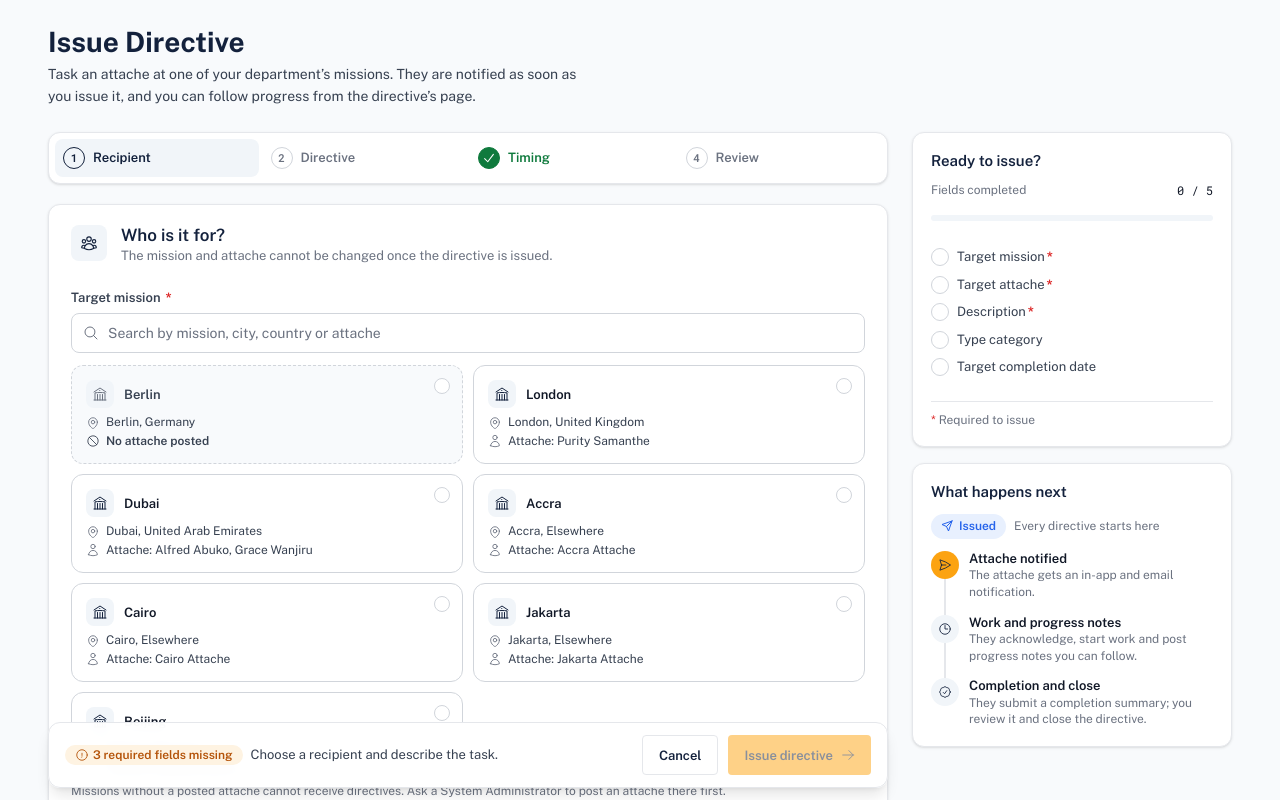
Scenario: IssueDirectivePage › TC-FR-DIR-002-E: searches missions by name, city, country or attache when the list is long
Expected: the radio button labelled "London" is shown, [473,365,865,464]
Type "wanjiru" into the search field named "Search missions" at (468, 333), box [71,313,865,353]
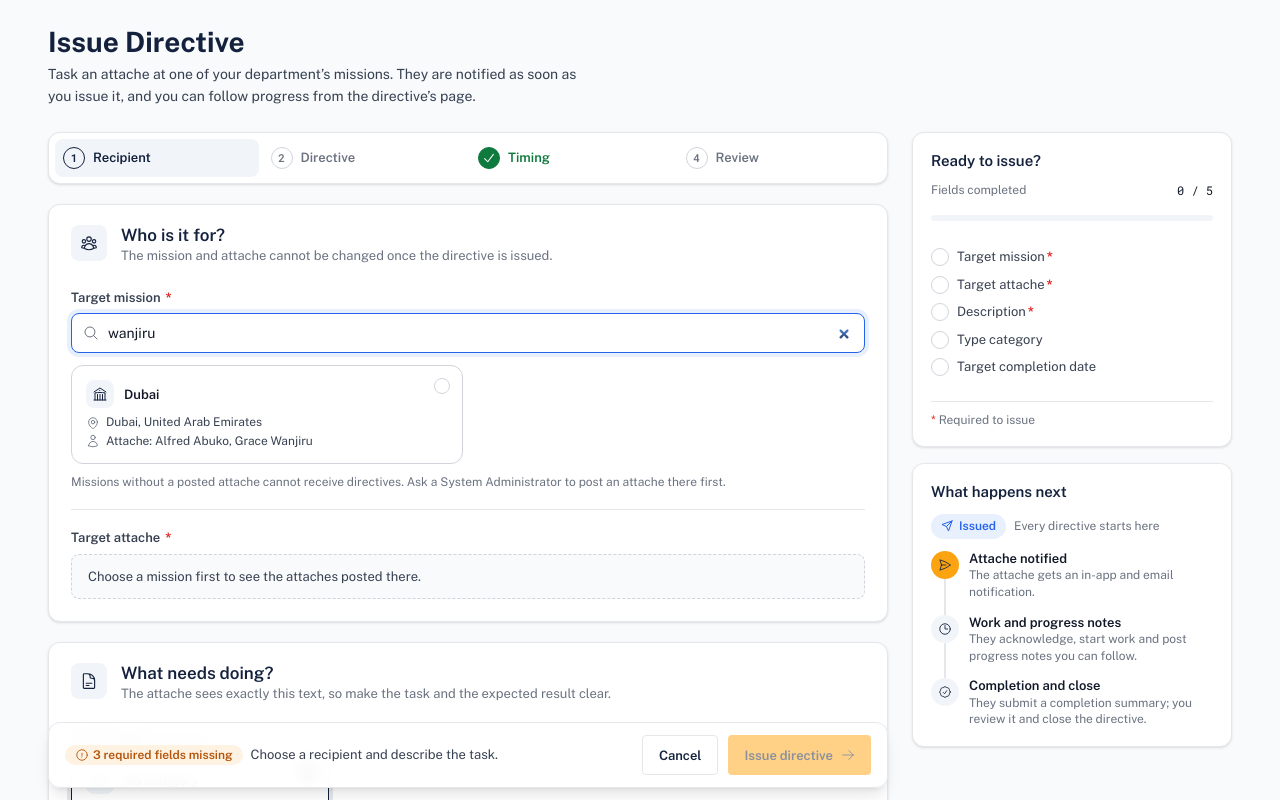
Expected: the radio button labelled "Dubai" is shown, [71,365,463,464]
Expected: the text "London" is gone
Replace the text in the search field named "Search missions" with "zzz" at (468, 333), box [71,313,865,353]
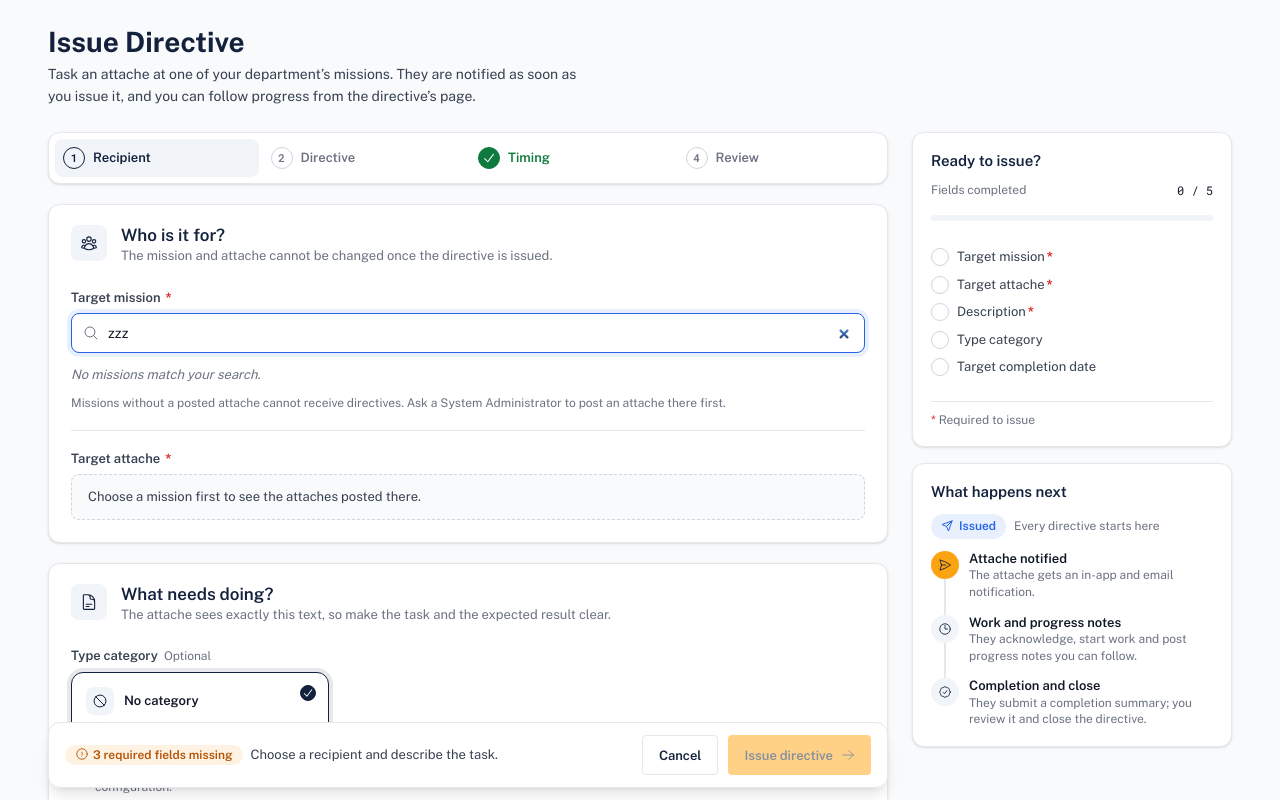
Expected: the text "No missions match your search." is shown, [71,367,260,382]
